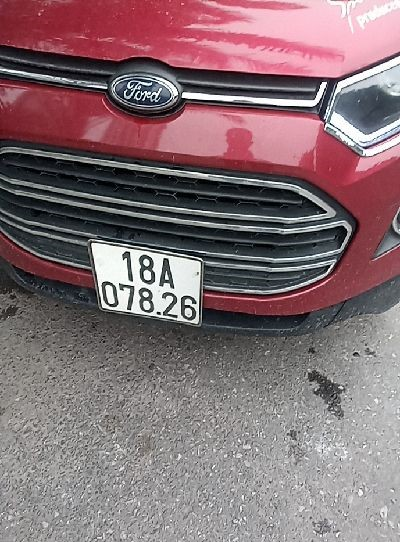number_plate: (80, 231, 211, 332)
